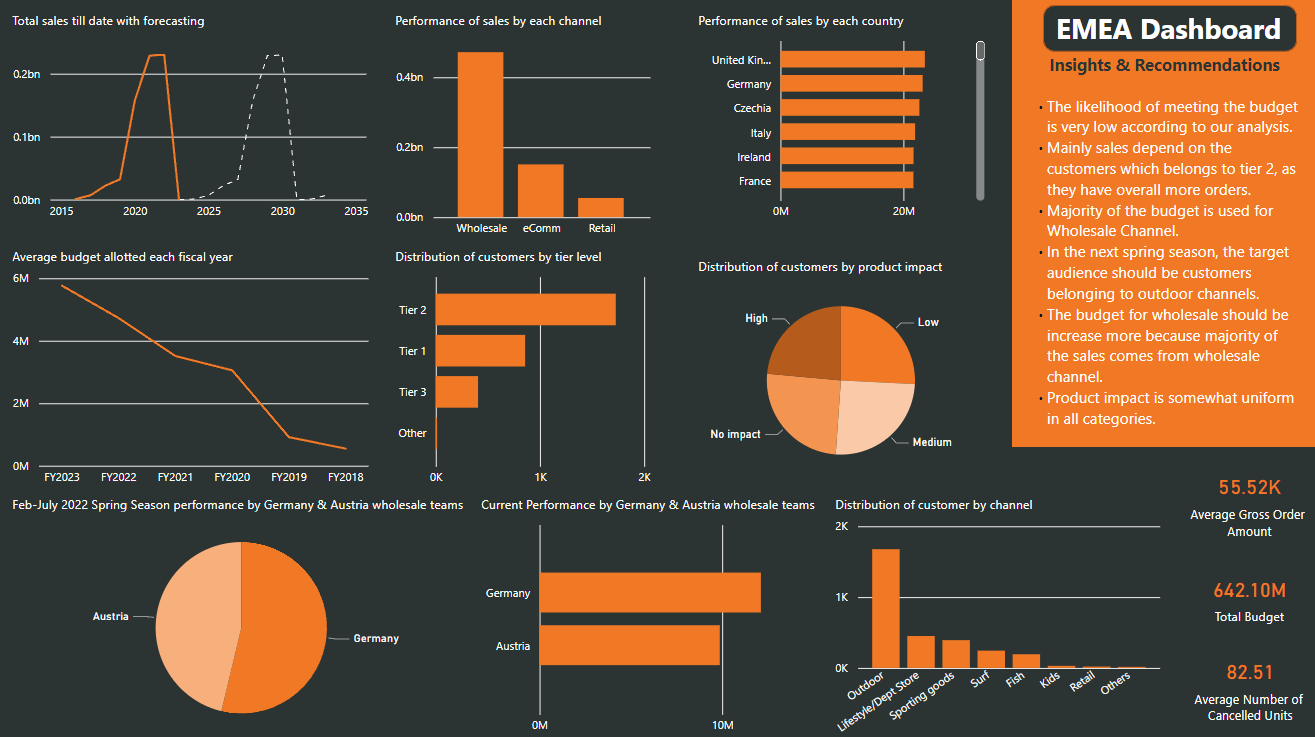

The dashboard page shown, as its layout file describes it:
{"tool":"powerbi","page":{"name":"Sales","canvas":[1280,720],"ordinal":0},"visuals":[{"type":"shape","box":[982.3,0,297.7,435],"z":0},{"type":"shape","box":[1012.1,10.6,243.9,45.1],"z":2000},{"type":"textbox","box":[1013.1,9.6,242.9,48],"z":3000},{"type":"lineChart","title":"Total sales till date with forecasting","fields":{"Category":["Sales.Date"],"Y":["Sum(Sales.Net Sales)"]},"box":[17.3,16.3,352.4,210.3],"z":4000},{"type":"columnChart","title":"Performance of sales by each channel","fields":{"Category":["Sales.Channel"],"Y":["Sum(Sales.Net Sales)"]},"box":[385.1,16.3,255.4,226.6],"z":5000},{"type":"lineClusteredColumnComboChart","title":"Average budget allotted each fiscal year","fields":{"Y2":["Avg(Budget.Budget)"],"Category":["Budget.Fiscal Year"]},"box":[17.3,242.9,352.4,239.1],"z":6000},{"type":"barChart","title":"Distribution of customers by tier level","fields":{"Category":["Customer.Tier"],"Y":["CountNonNull(Customer.Account Name)"]},"box":[385.1,242.9,255.4,239.1],"z":7000},{"type":"card","fields":{"Values":["Avg(Order.Gross  Order Amount)"]},"box":[1140.8,416.7,139.2,128.7],"z":8000},{"type":"card","fields":{"Values":["Avg(Order.Cancelled Units)"]},"box":[1142.7,597.3,137.3,122.9],"z":9000},{"type":"pieChart","title":"Distribution of customers by product impact","fields":{"Category":["Customer.Impact"],"Y":["CountNonNull(Customer.Account Name)"]},"box":[676,252.5,284.2,220.9],"z":10000},{"type":"card","fields":{"Values":["Sum(Budget.Budget)"]},"box":[1140.8,545.4,139.2,69.1],"z":11000},{"type":"textbox","box":[992.9,51.9,271.7,409.1],"z":12000},{"type":"barChart","title":"Performance of sales by each country","fields":{"Y":["Sum(Sales.Net Sales)"],"Category":["Sales.Country"]},"box":[676,16.3,285.2,210.3],"z":13000},{"type":"barChart","title":"Current Performance by Germany & Austria wholesale teams","fields":{"Y":["Sum(Sales.Net Sales)"],"Category":["Sales.Country"]},"box":[467.6,481.1,339.9,239.1],"z":14000},{"type":"pieChart","title":"Feb-July 2022 Spring Season performance by Germany & Austria wholesale teams","fields":{"Category":["Sales.Country"],"Y":["Sum(Sales.Net Sales)"]},"box":[17.3,481.1,450.4,239.1],"z":15000},{"type":"columnChart","title":"Distribution of customer by channel","fields":{"Category":["Customer.Channel"],"Y":["CountNonNull(Customer.Account Name)"]},"box":[807.6,481.1,321.7,239.1],"z":15001}]}

Visuals, with their boxes in screenshot pixels (x1, y1, x2, y2), scaled from the page's 1280x720 canvas onto the 1315x737 screenshot:
shape: locate(1009, 0, 1314, 445)
shape: locate(1040, 11, 1290, 57)
textbox: locate(1041, 10, 1290, 59)
"Total sales till date with forecasting" lineChart: locate(18, 17, 380, 232)
"Performance of sales by each channel" columnChart: locate(396, 17, 658, 249)
"Average budget allotted each fiscal year" lineClusteredColumnComboChart: locate(18, 249, 380, 493)
"Distribution of customers by tier level" barChart: locate(396, 249, 658, 493)
card - Avg(Order.Gross  Order Amount): locate(1172, 427, 1314, 558)
card - Avg(Order.Cancelled Units): locate(1174, 611, 1314, 736)
"Distribution of customers by product impact" pieChart: locate(694, 258, 986, 485)
card - Sum(Budget.Budget): locate(1172, 558, 1314, 629)
textbox: locate(1020, 53, 1299, 472)
"Performance of sales by each country" barChart: locate(694, 17, 987, 232)
"Current Performance by Germany & Austria wholesale teams" barChart: locate(480, 492, 830, 736)
"Feb-July 2022 Spring Season performance by Germany & Austria wholesale teams" pieChart: locate(18, 492, 480, 736)
"Distribution of customer by channel" columnChart: locate(830, 492, 1160, 736)
